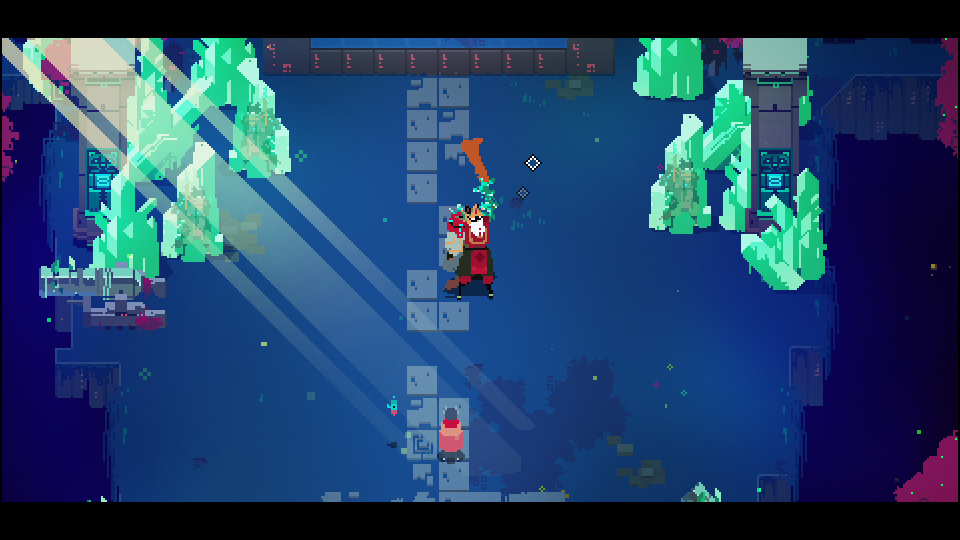hanged_man: (438, 173, 504, 301)
player: (438, 401, 465, 463)
